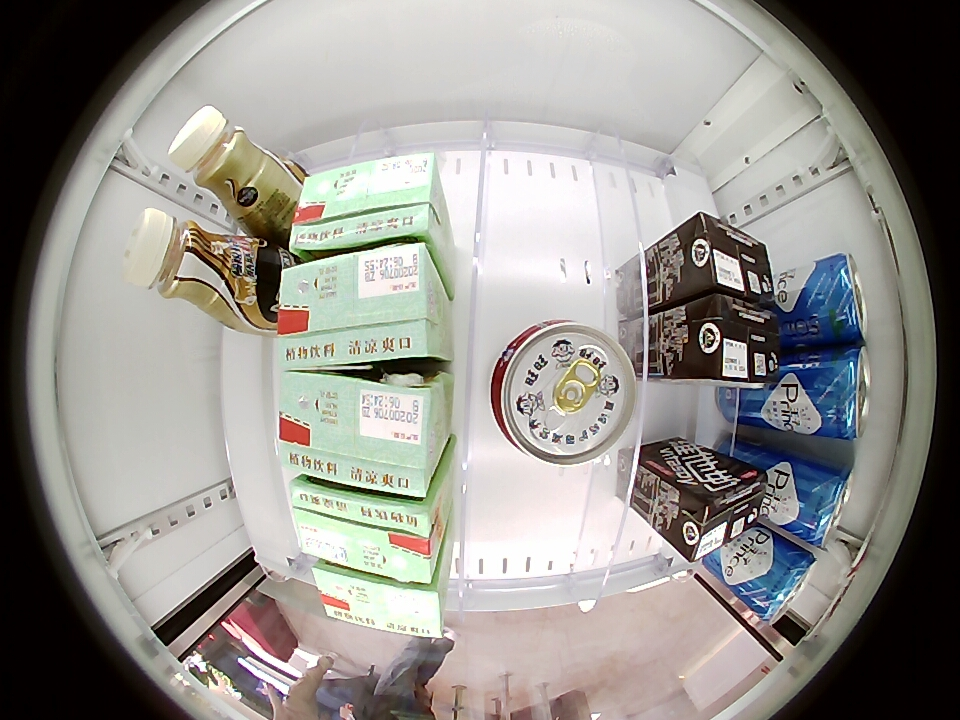kafei: (121, 207, 266, 330), (169, 105, 282, 223)
qingdaowangzi-2: (801, 253, 867, 345), (808, 346, 872, 440), (746, 542, 818, 623), (788, 460, 854, 545)
wanglaoji: (278, 368, 445, 498), (276, 242, 444, 368), (290, 477, 444, 584), (290, 152, 443, 258), (313, 563, 444, 637)
wangzainiunai: (490, 318, 638, 467)
weitanai2: (666, 463, 769, 564), (674, 212, 776, 302), (678, 296, 780, 381)
